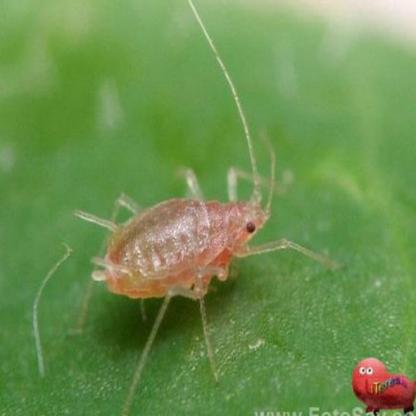aphid: (88, 35, 301, 388)
